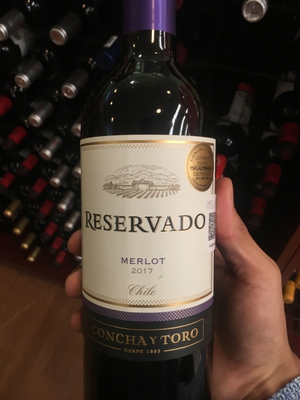reservado merlot: (69, 15, 243, 380)
